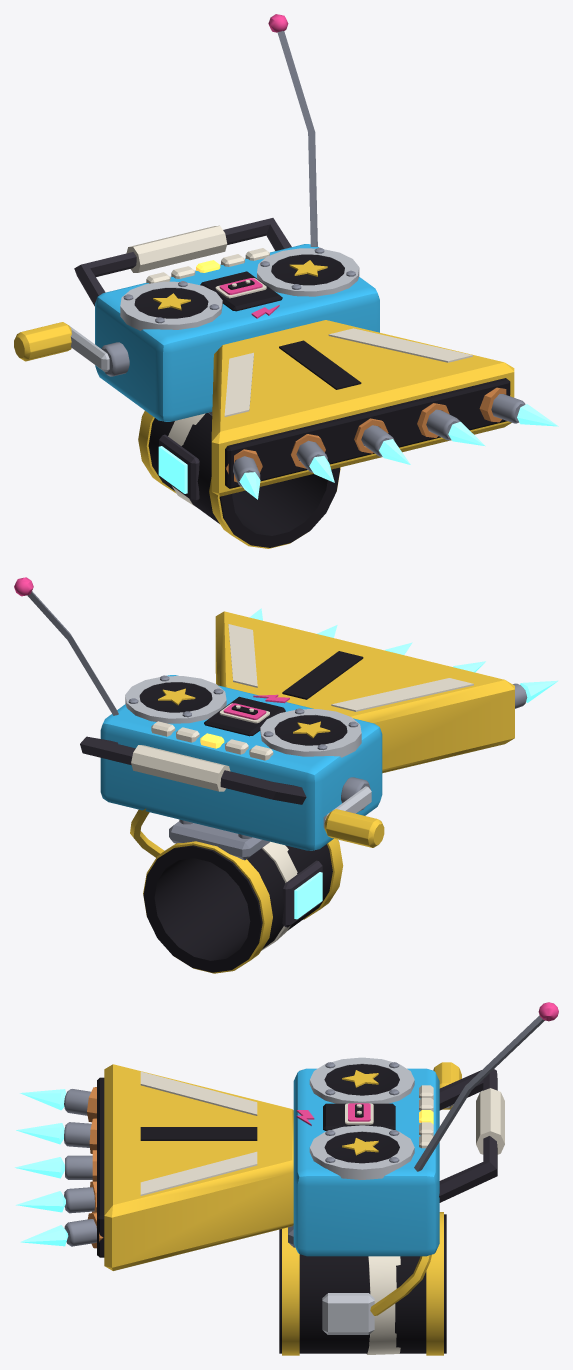
The model's file is static_spray.glb.
The picture shows the model from 3 angles, top to bottom: view 1: azimuth 30°, elevation 25°; view 2: azimuth 150°, elevation 25°; view 3: azimuth 270°, elevation 25°; orthographic projection. The views are drawn at different scales.
Parts seen in each view (by area): view 1: Weapon; view 2: Weapon; view 3: Weapon.
Boxes of the visible parts, box(x1,y1,x2,y2) form: Weapon: box(14, 14, 558, 548); Weapon: box(14, 577, 558, 973); Weapon: box(15, 1002, 558, 1355).
Size of the model in its own units: 0.2659 by 0.3107 by 0.374.
